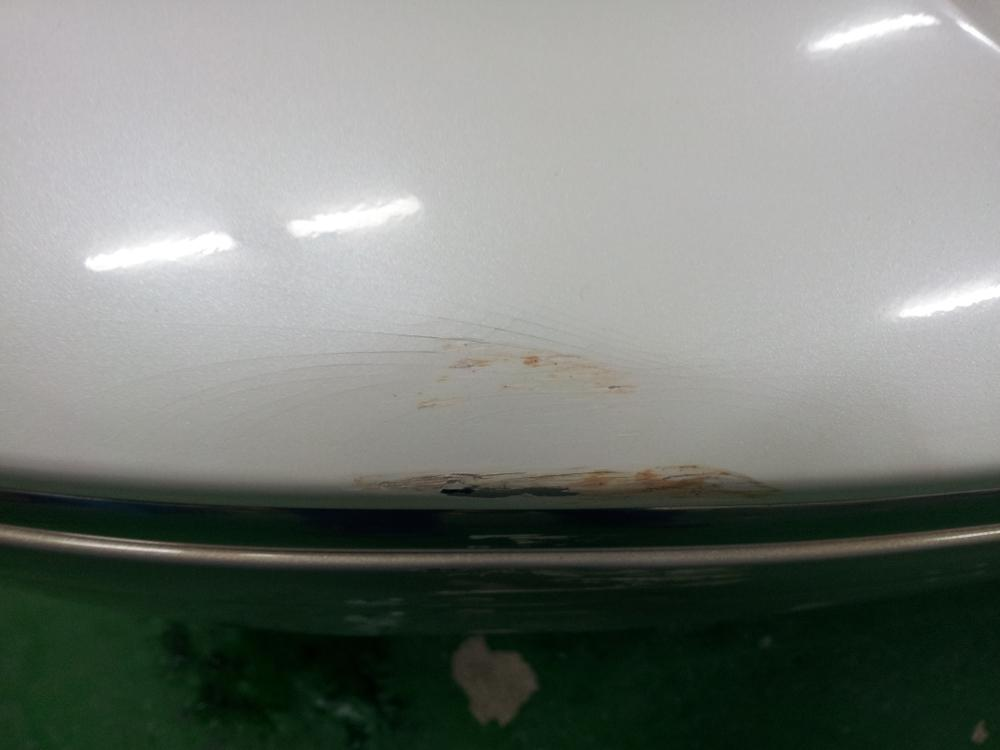scratch: (336, 342, 819, 512), (315, 557, 775, 623)
